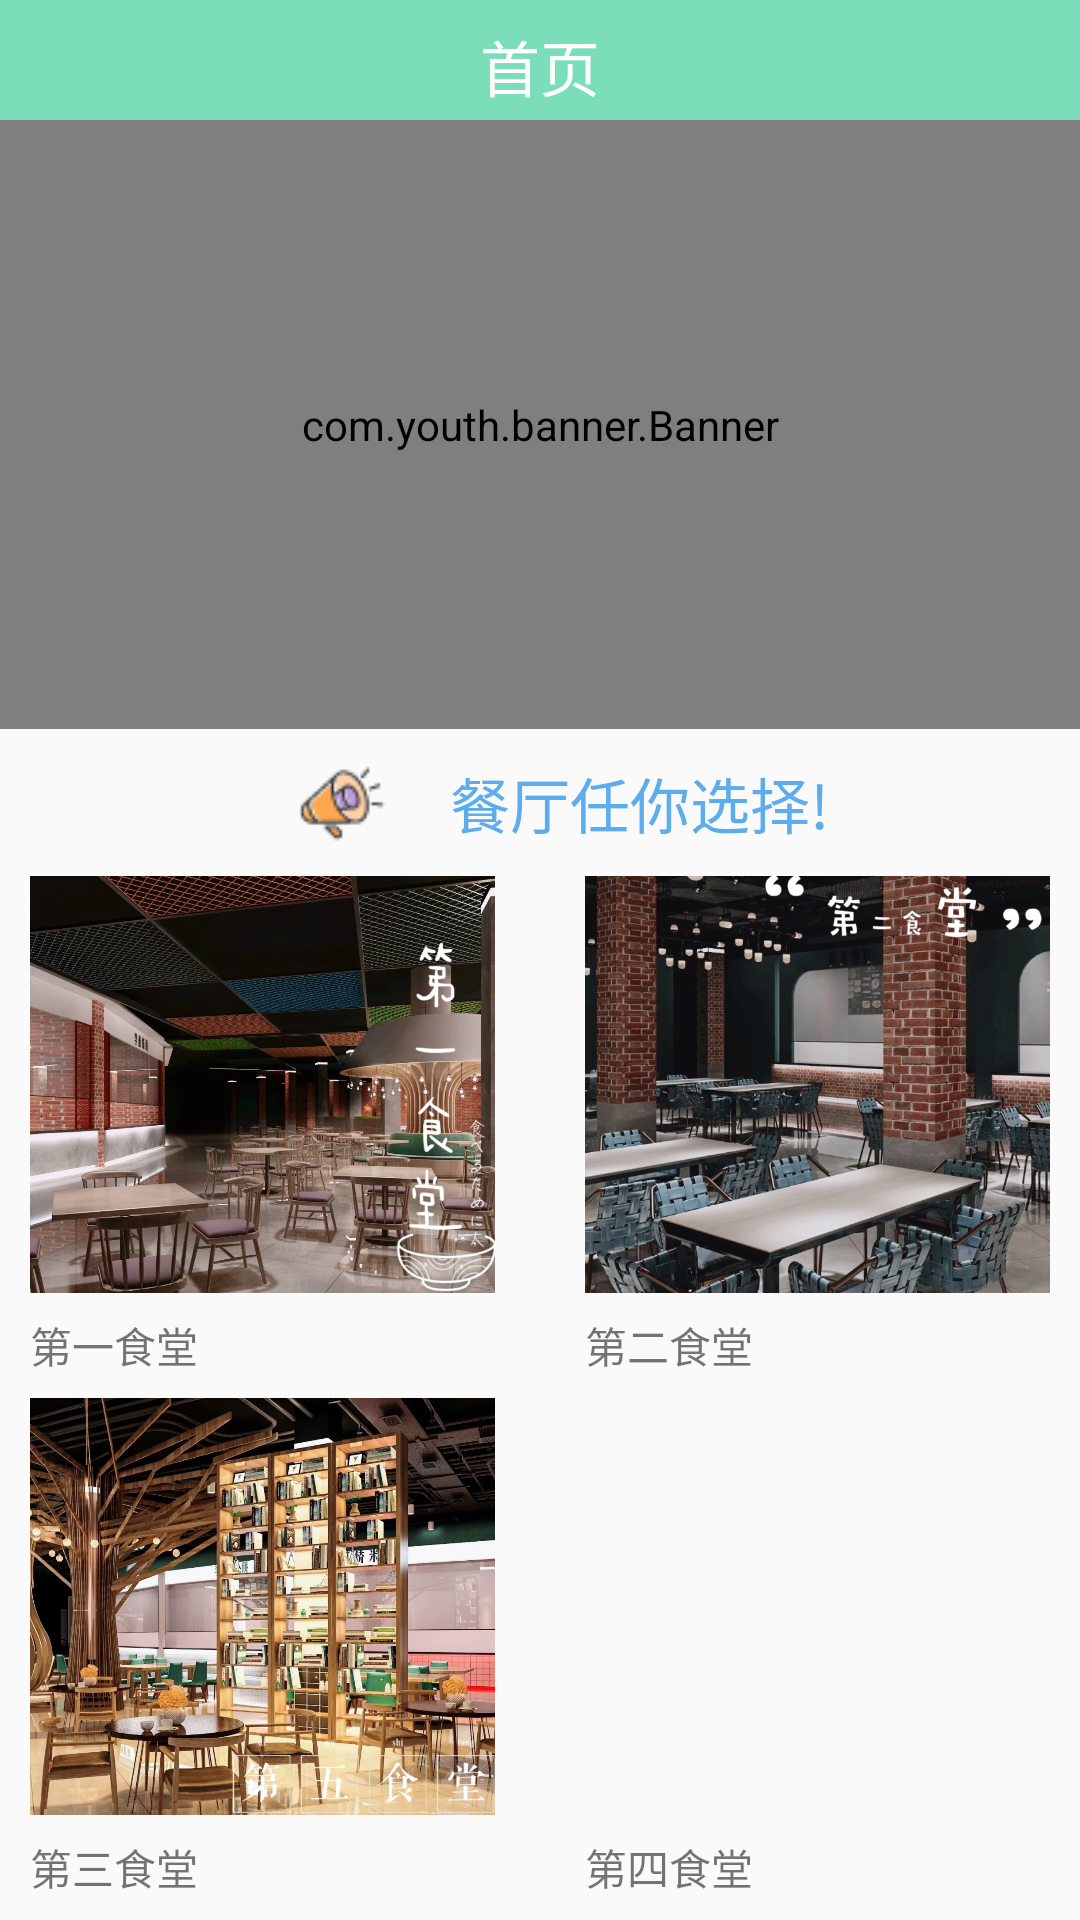

Screen size 1080 x 1920. Icon name, then its center in pixels as point (x, y):
laba: point (342, 803)
